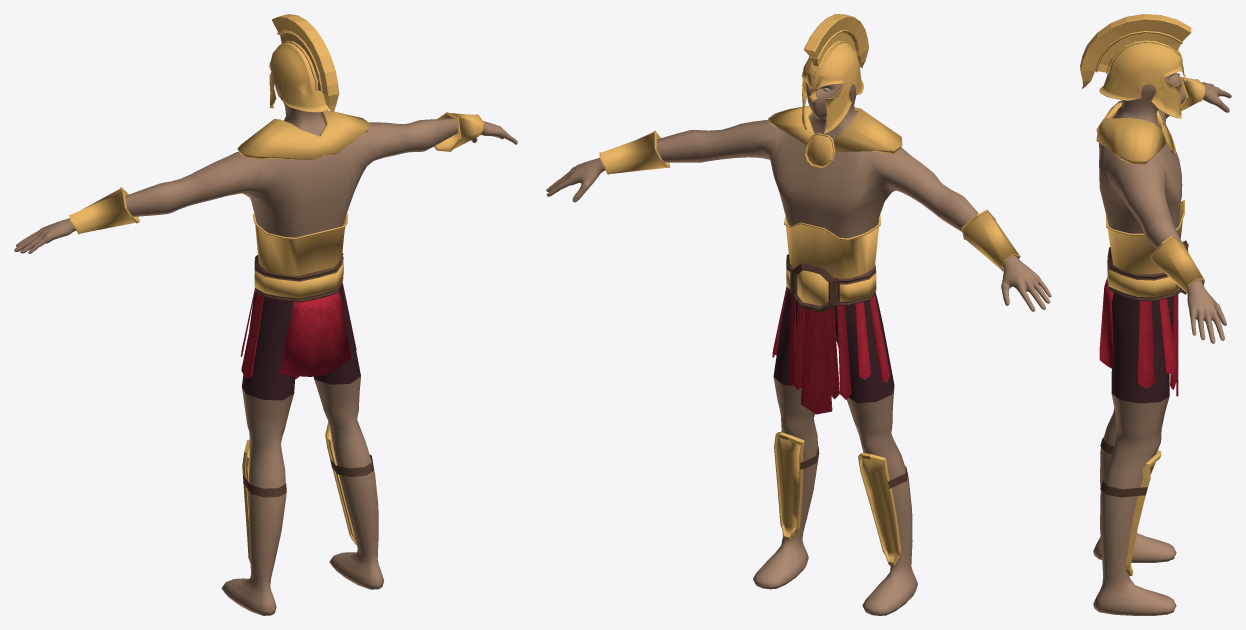
File: Main_Character.fbx
3 views of the same model, side by side, from view 1: azimuth 30°, elevation 25°; view 2: azimuth 150°, elevation 25°; view 3: azimuth 270°, elevation 25° (orthographic).
Parts seen in each view (by area): view 1: Sphere.002; view 2: Sphere.002; view 3: Sphere.002.
Boxes of the visible parts, bbox=[...] form: Sphere.002: bbox=[14, 14, 517, 615]; Sphere.002: bbox=[546, 14, 1051, 615]; Sphere.002: bbox=[1080, 14, 1231, 615].
Size of the model in its own units: 436 by 475 by 115.
10 materials, 1 textured.
